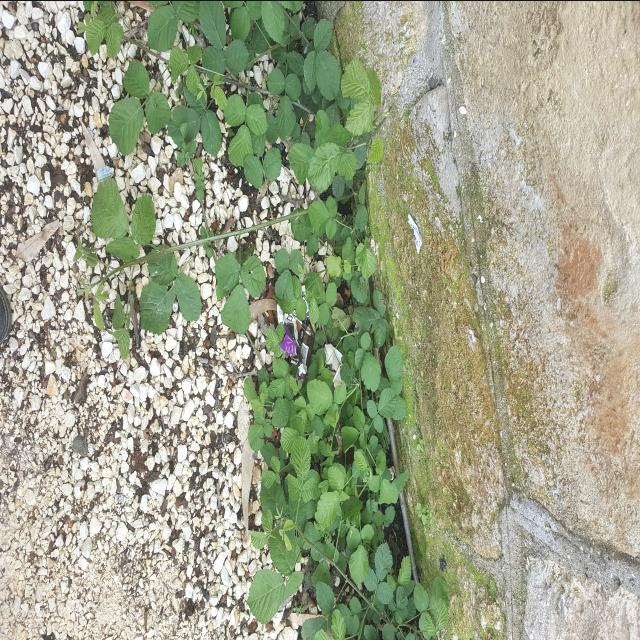Other plastic: (277, 284, 315, 384), (323, 341, 343, 384), (97, 165, 114, 180), (335, 423, 341, 440)
Unlabeled litter: (408, 213, 422, 253)
